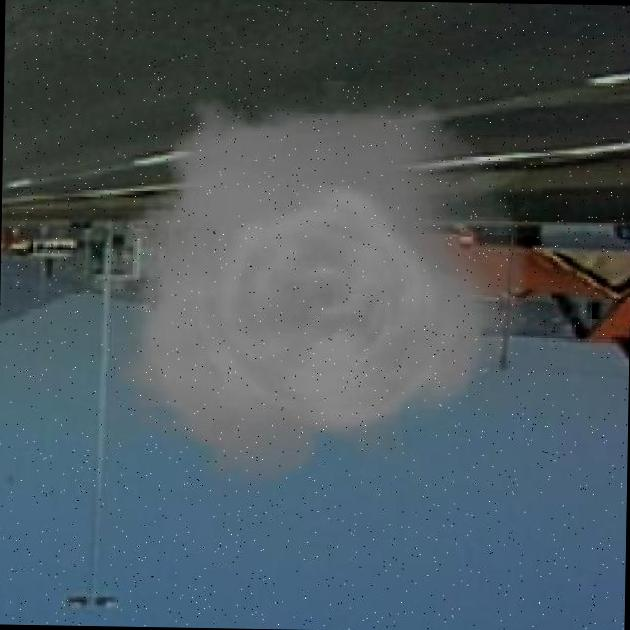smoke: (101, 80, 530, 467)
